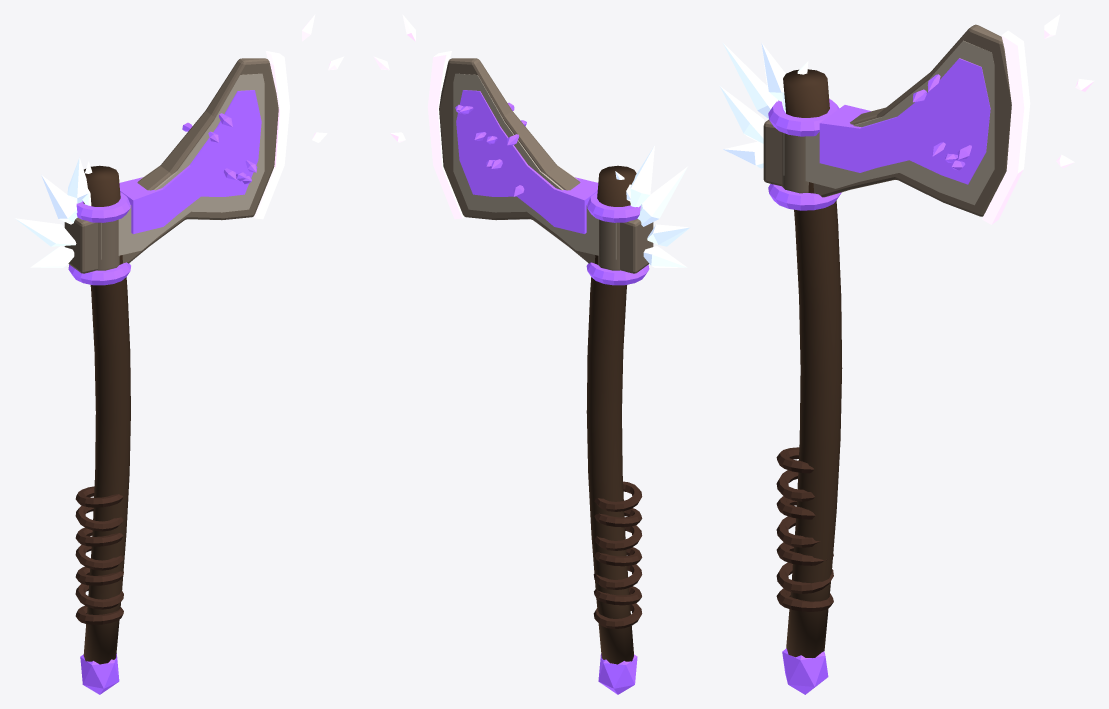
File: shardfall.glb
3 views of the same model, side by side, from view 1: azimuth 30°, elevation 25°; view 2: azimuth 150°, elevation 25°; view 3: azimuth 330°, elevation 25° (orthographic). The views are drawn at different scales.
Parts seen in each view (by area): view 1: AX13_Haft, AX13_Core, AX13_Shell, AX13_Crust, AX13_Edge, AX13_Pommel, AX13_Socket, AX13_Socket_Top, AX13_Quartz1, AX13_Socket_Bot, AX13_Quartz0, AX13_Grip_6 (+8 smaller); view 2: AX13_Haft, AX13_Core, AX13_Shell, AX13_Crust, AX13_Edge, AX13_Pommel, AX13_Socket, AX13_Quartz0, AX13_Socket_Top, AX13_Socket_Bot, AX13_Quartz2, AX13_Grip_6 (+8 smaller); view 3: AX13_Haft, AX13_Core, AX13_Shell, AX13_Crust, AX13_Edge, AX13_Pommel, AX13_Socket, AX13_Socket_Top, AX13_Quartz0, AX13_Socket_Bot, AX13_Quartz1, AX13_Grip_1 (+7 smaller).
Boxes of the visible parts, box(x1,y1,x2,y2) form: AX13_Haft: box(83, 165, 130, 664); AX13_Core: box(119, 90, 261, 234); AX13_Shell: box(64, 58, 278, 273); AX13_Crust: box(101, 73, 264, 259); AX13_Edge: box(253, 51, 289, 219); AX13_Pommel: box(80, 653, 119, 694); AX13_Socket: box(97, 219, 119, 270); AX13_Socket_Top: box(76, 192, 130, 222); AX13_Quartz1: box(15, 218, 76, 246); AX13_Socket_Bot: box(68, 262, 130, 285); AX13_Quartz0: box(41, 174, 77, 224); AX13_Grip_6: box(75, 486, 123, 507); AX13_Haft: box(586, 165, 636, 664); AX13_Core: box(456, 90, 598, 233); AX13_Shell: box(439, 58, 653, 273); AX13_Crust: box(453, 73, 616, 259); AX13_Edge: box(427, 51, 464, 219); AX13_Pommel: box(598, 653, 637, 694); AX13_Socket: box(598, 219, 620, 270); AX13_Quartz0: box(637, 166, 687, 226); AX13_Socket_Top: box(587, 192, 640, 222); AX13_Socket_Bot: box(586, 262, 649, 285); AX13_Quartz2: box(630, 145, 654, 207); AX13_Grip_6: box(594, 481, 642, 511); AX13_Haft: box(783, 69, 842, 657); AX13_Core: box(819, 58, 990, 184); AX13_Shell: box(763, 24, 1011, 216); AX13_Crust: box(783, 40, 994, 205); AX13_Edge: box(982, 30, 1030, 224); AX13_Pommel: box(782, 648, 828, 694); AX13_Socket: box(782, 132, 808, 193); AX13_Socket_Top: box(768, 99, 839, 136); AX13_Quartz0: box(722, 42, 778, 118); AX13_Socket_Bot: box(768, 184, 841, 210); AX13_Quartz1: box(720, 86, 764, 144); AX13_Grip_1: box(776, 562, 833, 593).
Bounding box in the file's own units: 0.5949 × 1.1 × 0.1008.
